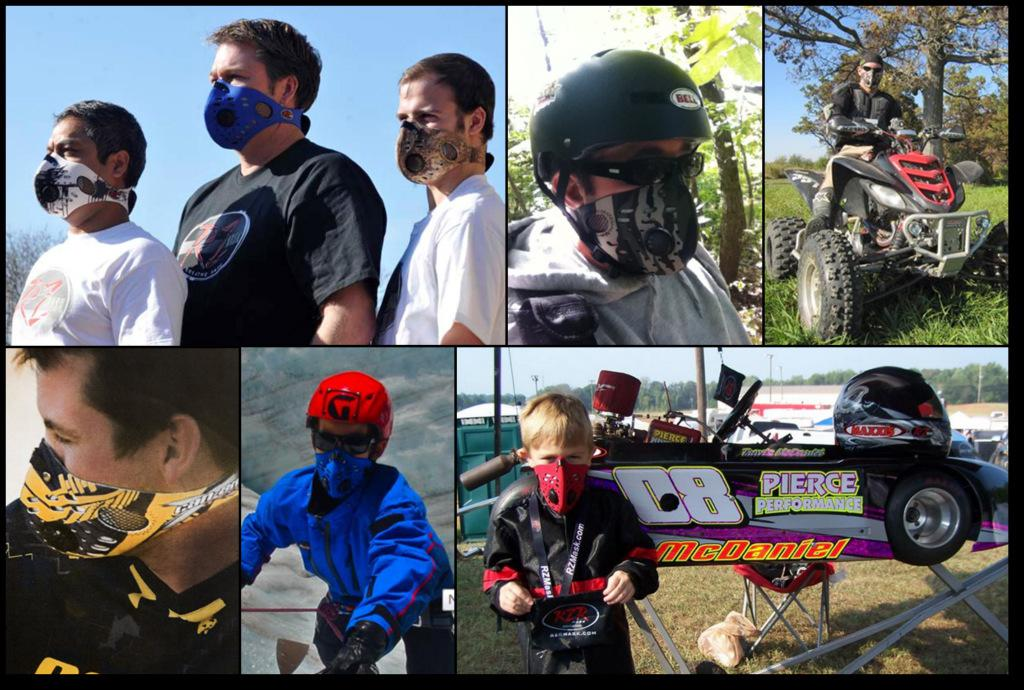OK: (27, 389, 156, 566), (589, 142, 697, 282), (39, 130, 99, 227), (206, 63, 267, 153), (396, 96, 450, 181), (315, 424, 375, 493), (531, 447, 591, 507), (863, 60, 887, 87)
